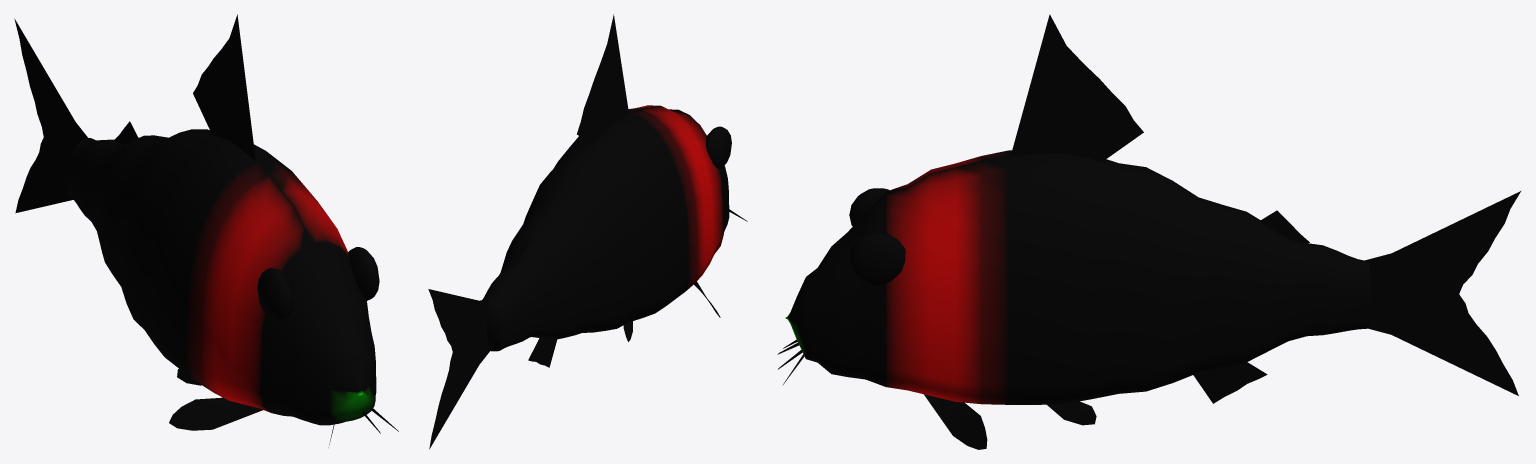
The model's file is corydoras-trilineatus.glb.
3 views of the same model, side by side, from view 1: azimuth 30°, elevation 25°; view 2: azimuth 150°, elevation 25°; view 3: azimuth 270°, elevation 25° (orthographic). The views are drawn at different scales.
Visible parts, largest first — view 1: ctrilin_body, ctrilin_caudal, ctrilin_dorsal, ctrilin_pectoralL, ctrilin_eyeL, ctrilin_eyeR; view 2: ctrilin_body, ctrilin_caudal, ctrilin_dorsal, ctrilin_eyeL, ctrilin_anal; view 3: ctrilin_body, ctrilin_caudal, ctrilin_dorsal, ctrilin_eyeR, ctrilin_pectoralR, ctrilin_anal, ctrilin_pelvicR.
Part boxes in pixels (x1,y1,x2,y2): ctrilin_body: (67, 129, 376, 425); ctrilin_caudal: (14, 18, 88, 213); ctrilin_dorsal: (193, 14, 255, 160); ctrilin_pectoralL: (169, 397, 262, 430); ctrilin_eyeL: (257, 268, 293, 321); ctrilin_eyeR: (348, 247, 379, 300); ctrilin_body: (482, 105, 729, 351); ctrilin_caudal: (428, 289, 490, 449); ctrilin_dorsal: (577, 14, 628, 145); ctrilin_eyeL: (705, 126, 731, 169); ctrilin_anal: (528, 338, 556, 367); ctrilin_body: (785, 150, 1371, 404); ctrilin_caudal: (1363, 191, 1520, 395); ctrilin_dorsal: (1011, 14, 1143, 161); ctrilin_eyeR: (849, 232, 905, 286); ctrilin_pectoralR: (924, 394, 987, 449); ctrilin_anal: (1193, 362, 1267, 403); ctrilin_pelvicR: (1047, 401, 1096, 425).
Size of the model in its own units: 0.4126 by 0.7418 by 1.27.
